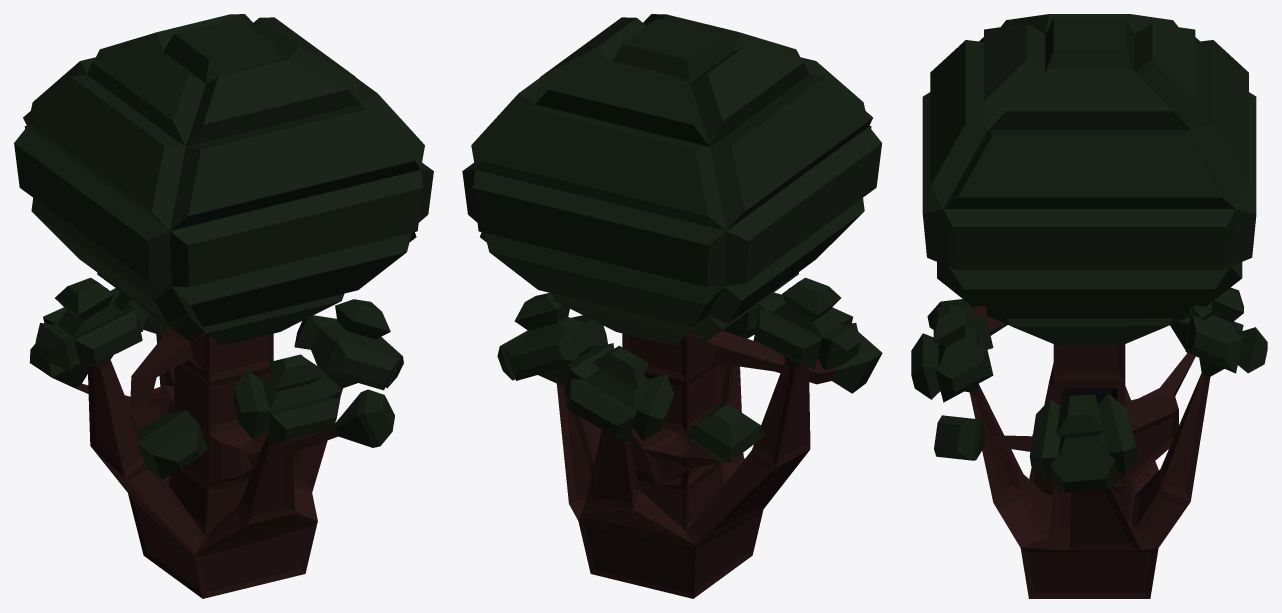
Rendered from big tree.FBX.
3 renders of one model, left to right at view 1: azimuth 30°, elevation 25°; view 2: azimuth 150°, elevation 25°; view 3: azimuth 270°, elevation 25°, orthographic. The views are drawn at different scales.
Visible parts, largest first — view 1: Big Tree; view 2: Big Tree; view 3: Big Tree.
Part boxes in pixels (x1,y1,x2,y2): Big Tree: [14, 14, 433, 598]; Big Tree: [462, 14, 882, 598]; Big Tree: [911, 14, 1267, 598].
Size of the model in its own units: 115 by 166 by 99.63.
